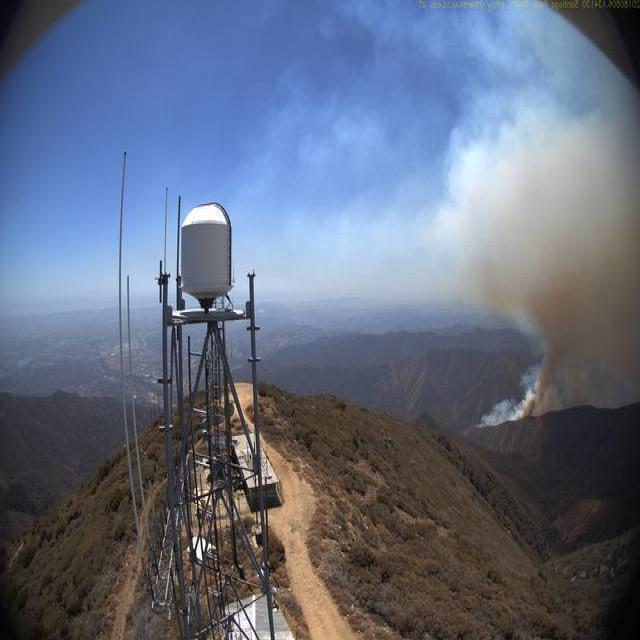Smoke: (472, 93, 638, 431)
